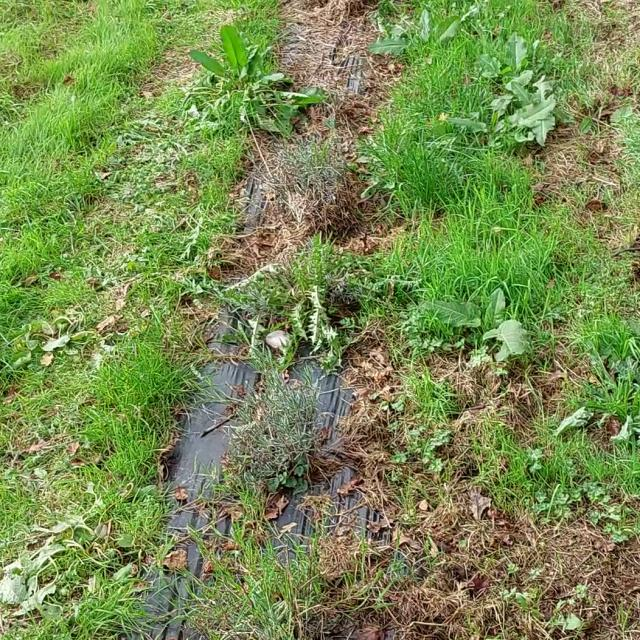organic waste: (182, 11, 316, 139), (388, 267, 548, 369), (1, 515, 108, 629), (482, 74, 586, 157), (369, 7, 485, 74), (15, 297, 113, 374), (459, 40, 555, 104)
